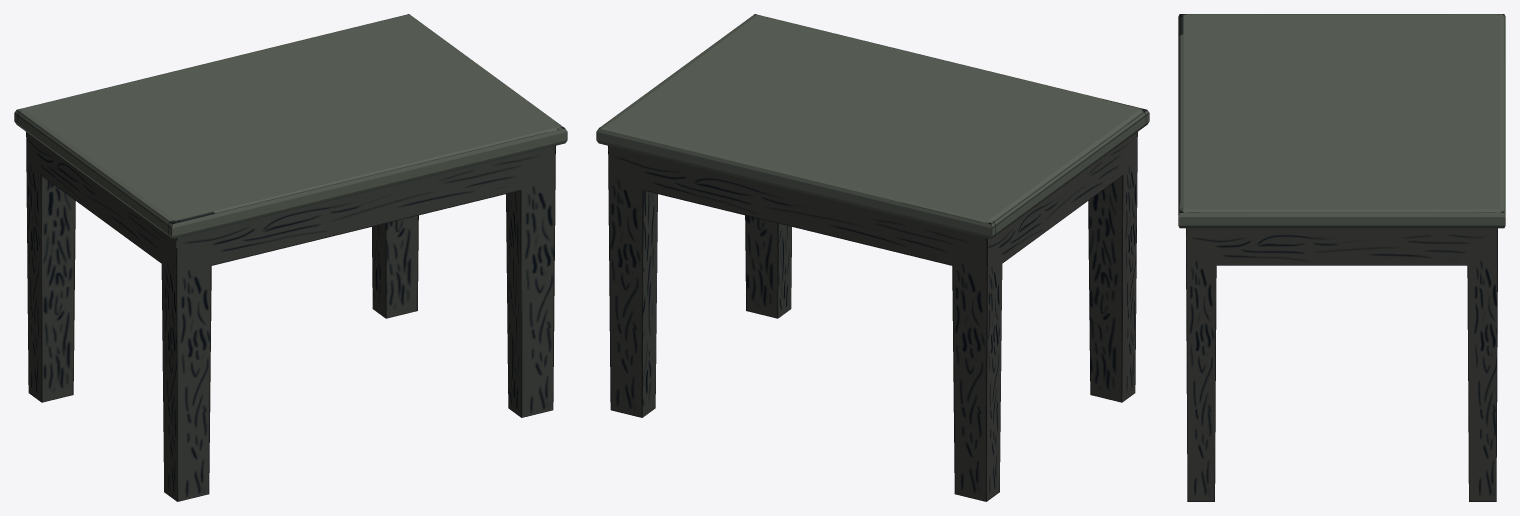
Rendered from laud.fbx.
The picture shows the model from 3 angles, left to right: view 1: azimuth 30°, elevation 25°; view 2: azimuth 150°, elevation 25°; view 3: azimuth 270°, elevation 25°; orthographic projection. The views are drawn at different scales.
Parts seen in each view (by area): view 1: Cube; view 2: Cube; view 3: Cube.
Boxes of the visible parts, x1=… form: Cube: x1=14, y1=14, x2=567, y2=501; Cube: x1=596, y1=14, x2=1149, y2=501; Cube: x1=1178, y1=14, x2=1505, y2=501.
Bounding box in the file's own units: 290 × 199 × 200.
1 material, 1 textured.
